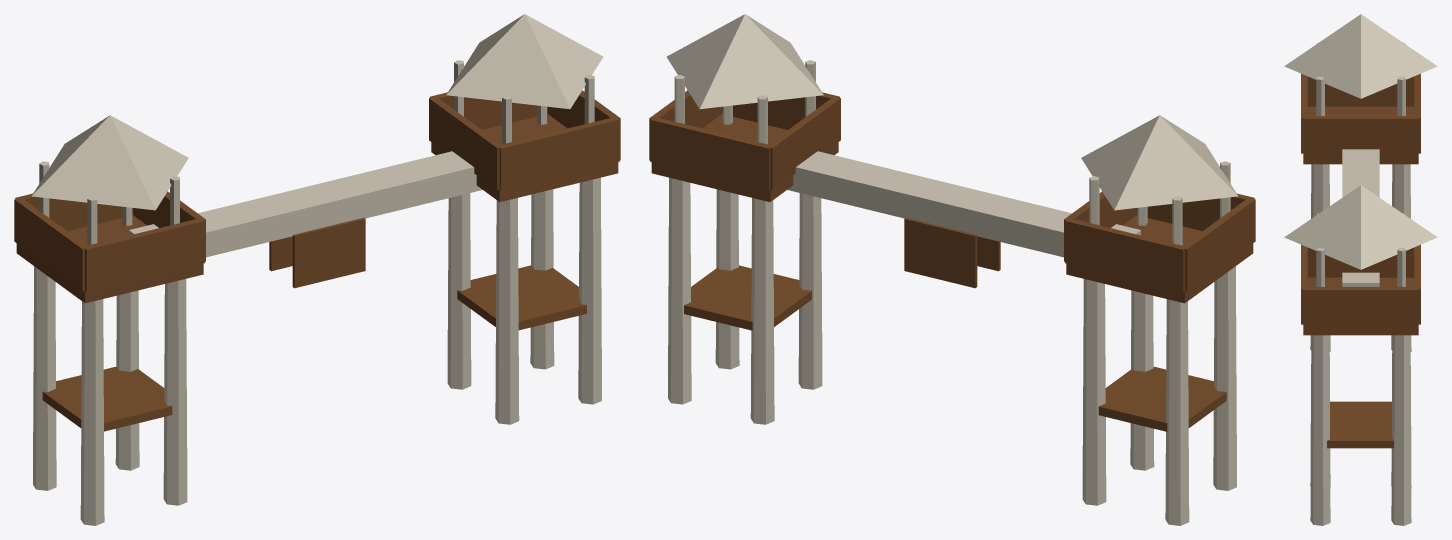
File: centaur_gate.glb
3 renders of one model, left to right at view 1: azimuth 30°, elevation 25°; view 2: azimuth 150°, elevation 25°; view 3: azimuth 270°, elevation 25°, orthographic. The views are drawn at different scales.
Parts seen in each view (by area): view 1: centaur_gate; view 2: centaur_gate; view 3: centaur_gate.
Boxes of the visible parts, bbox=[...] form: centaur_gate: bbox=[14, 14, 620, 525]; centaur_gate: bbox=[649, 14, 1255, 525]; centaur_gate: bbox=[1284, 14, 1437, 525].
Size of the model in its own units: 4.83 by 3.05 by 1.33.
